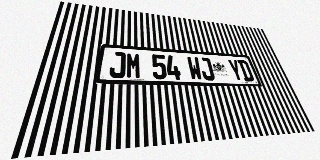4: (165, 55, 181, 80)
5: (152, 54, 167, 79)
D: (237, 60, 255, 82)
J: (109, 51, 126, 78), (198, 57, 216, 81)
M: (126, 52, 141, 79)
W: (186, 56, 203, 80)
Y: (227, 59, 245, 81)
